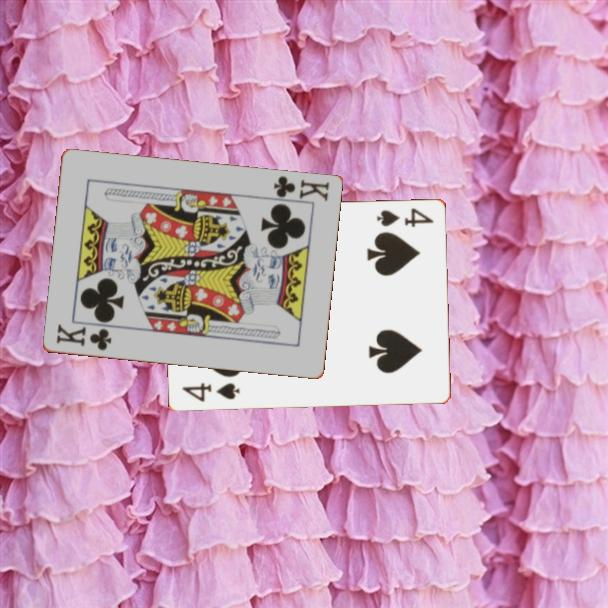c13: (52, 321, 114, 354), (270, 173, 332, 204)
s04: (373, 204, 436, 230), (179, 379, 243, 404)
